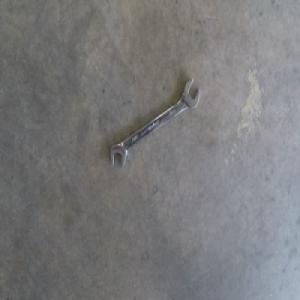Wrench: (109, 74, 199, 167)
